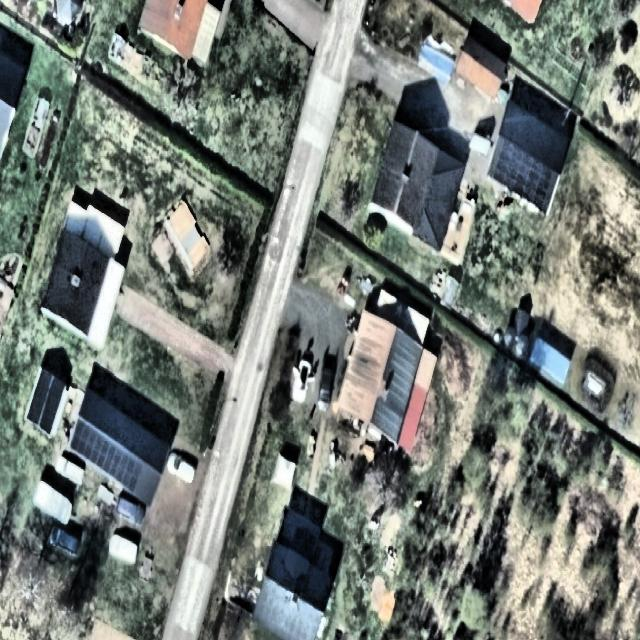roof_pv: (70, 419, 144, 488), (493, 142, 554, 201)
